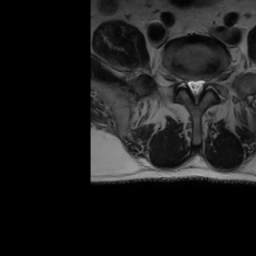CCS_normal: (193, 74, 198, 108)
LFS_normal: (203, 74, 210, 90)
LLS_stenosis: (198, 76, 203, 94)
RFS_normal: (180, 73, 188, 91)
RLS_stenosis: (187, 76, 193, 94)
